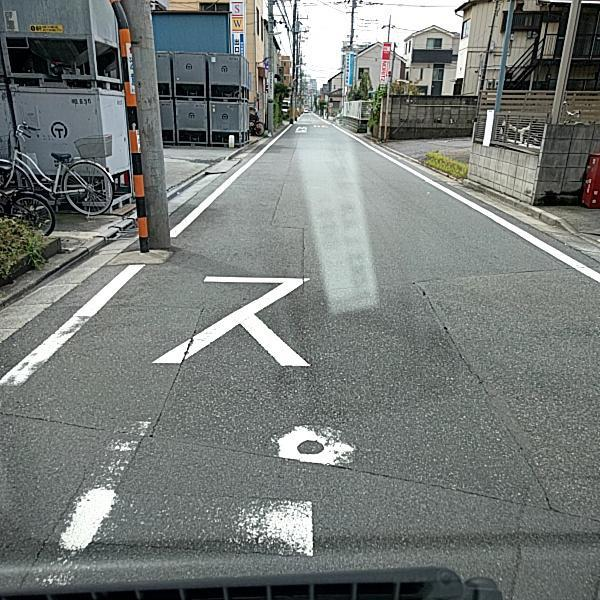D44: (31, 418, 349, 574)
